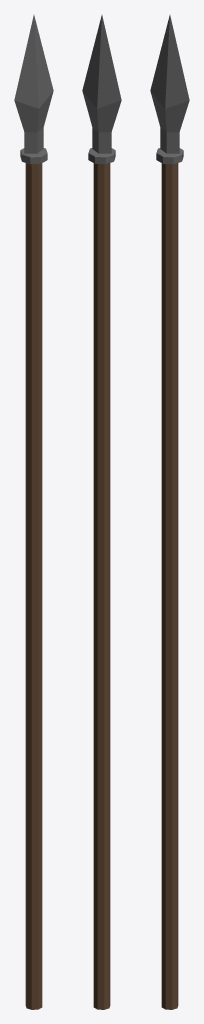
Rendered from Spear_1.fbx.
3 views of the same model, side by side, from view 1: azimuth 30°, elevation 25°; view 2: azimuth 150°, elevation 25°; view 3: azimuth 330°, elevation 25° (orthographic).
Visible parts, largest first — view 1: pCylinder6, pCube8; view 2: pCylinder6, pCube8; view 3: pCylinder6, pCube8.
Part boxes in pixels (<box>): pCylinder6: <box>20,148,47,1009</box>; pCube8: <box>14,15,53,153</box>; pCylinder6: <box>88,148,115,1009</box>; pCube8: <box>82,15,121,153</box>; pCylinder6: <box>156,148,183,1009</box>; pCube8: <box>150,15,189,153</box>.
Size of the model in its own units: 0.4354 by 10.48 by 0.2679.
